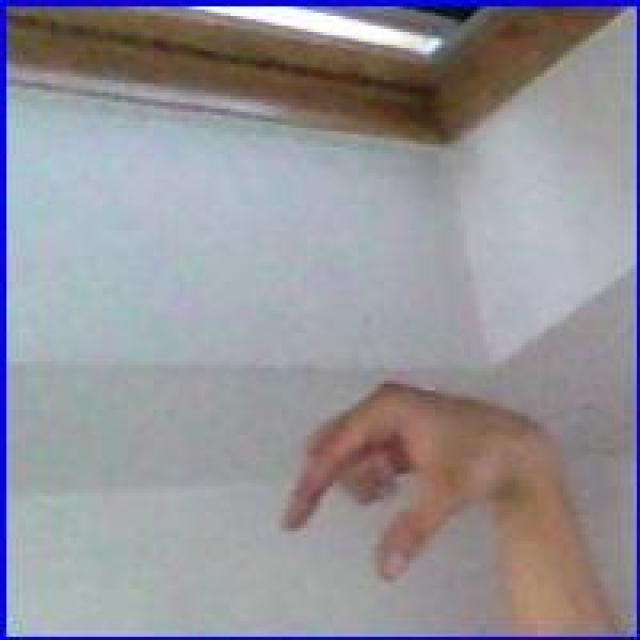Q: (274, 378, 548, 586)
